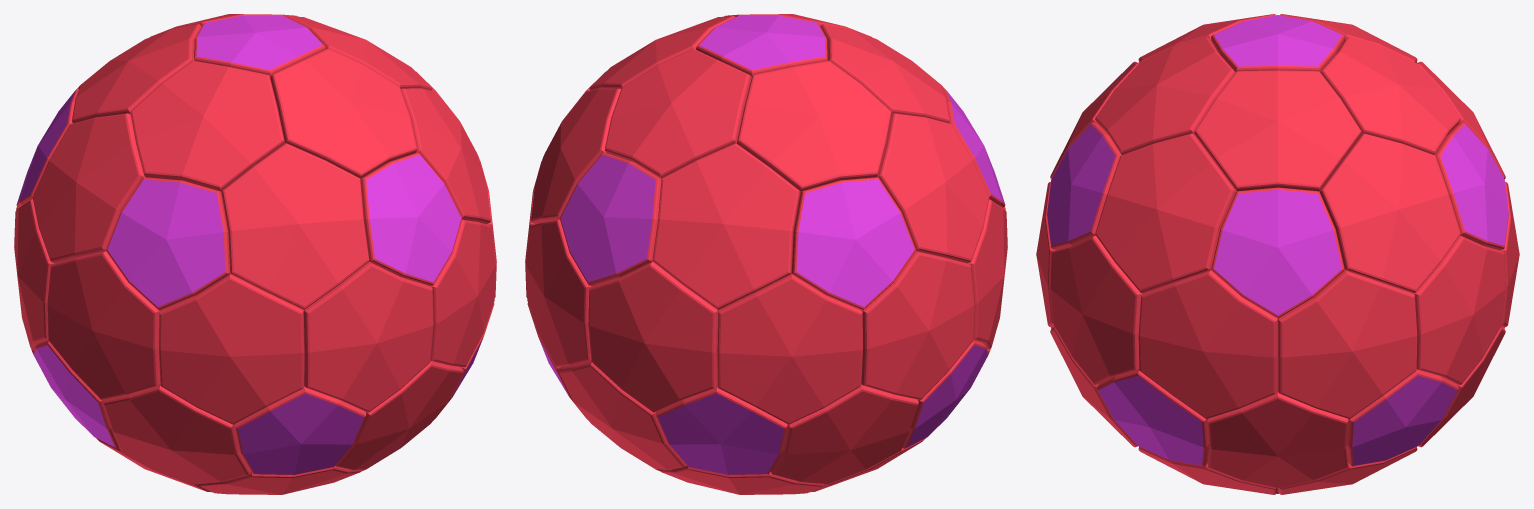
Rendered from ball.glb.
3 renders of one model, left to right at view 1: azimuth 30°, elevation 25°; view 2: azimuth 150°, elevation 25°; view 3: azimuth 270°, elevation 25°, orthographic.
Parts seen in each view (by area): view 1: Icosphere; view 2: Icosphere; view 3: Icosphere.
Boxes of the visible parts, x1=… form: Icosphere: x1=14, y1=14, x2=496, y2=494; Icosphere: x1=525, y1=14, x2=1007, y2=494; Icosphere: x1=1036, y1=14, x2=1519, y2=494.
Size of the model in its own units: 1.84 by 1.86 by 1.85.
